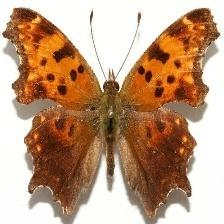butterfly: (3, 8, 220, 218)
